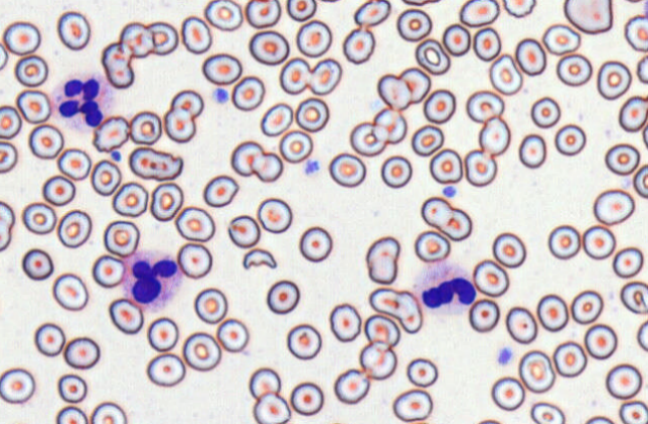GRAN: (50, 67, 119, 137), (120, 248, 184, 315), (415, 264, 476, 314)
PLT: (495, 344, 517, 366), (211, 85, 229, 105), (303, 158, 321, 177), (441, 183, 458, 199), (110, 150, 122, 162)
RBC: (368, 286, 422, 333), (128, 146, 183, 181), (365, 235, 400, 284), (563, 0, 613, 34), (518, 349, 555, 393), (101, 41, 134, 89), (182, 331, 221, 371), (593, 188, 635, 225), (359, 340, 397, 380), (174, 206, 215, 242), (248, 29, 289, 65), (488, 53, 523, 95), (92, 115, 130, 152), (295, 19, 332, 57), (472, 259, 509, 297), (52, 272, 88, 311), (146, 352, 186, 387), (596, 60, 631, 100), (392, 388, 433, 422), (2, 20, 41, 55), (57, 209, 92, 248), (333, 368, 370, 404), (414, 38, 450, 75), (605, 363, 642, 399), (111, 181, 148, 217), (103, 220, 139, 257), (349, 121, 387, 156), (328, 152, 366, 187), (465, 89, 504, 123), (202, 52, 242, 85), (57, 10, 90, 50), (256, 197, 292, 233), (28, 123, 64, 159), (372, 107, 407, 144), (0, 367, 35, 404), (552, 340, 587, 377), (308, 57, 342, 95), (252, 391, 291, 424), (150, 182, 183, 221), (478, 115, 510, 155), (329, 302, 361, 342), (108, 298, 143, 334), (177, 242, 212, 278), (286, 323, 321, 359), (363, 313, 400, 347), (193, 287, 227, 324), (492, 231, 526, 268), (298, 225, 332, 262), (514, 37, 546, 76), (542, 23, 581, 55), (180, 15, 212, 54), (203, 0, 243, 31), (490, 376, 525, 411), (289, 381, 324, 416), (230, 140, 264, 176), (119, 21, 153, 57), (422, 88, 456, 124), (231, 75, 265, 111), (429, 148, 463, 184), (398, 66, 431, 103), (377, 73, 410, 110), (63, 336, 100, 369), (342, 27, 375, 64), (202, 174, 239, 207), (505, 306, 537, 344), (536, 293, 568, 331), (278, 129, 313, 163), (295, 97, 329, 132), (16, 89, 51, 123), (266, 279, 300, 314), (582, 224, 616, 259), (163, 107, 196, 143), (414, 229, 450, 262), (556, 53, 592, 86), (584, 323, 617, 359), (396, 8, 432, 41), (279, 56, 310, 94), (91, 254, 125, 288), (129, 110, 162, 145), (216, 317, 249, 352), (21, 201, 56, 234), (547, 224, 580, 259), (570, 289, 603, 324), (604, 143, 640, 175), (90, 159, 121, 196), (439, 207, 472, 241), (260, 102, 293, 136), (227, 214, 260, 248), (57, 147, 91, 180), (14, 54, 48, 87), (147, 316, 178, 352), (618, 95, 648, 132), (146, 21, 178, 55), (459, 0, 499, 27), (411, 124, 444, 156), (248, 367, 281, 399), (42, 174, 75, 206), (380, 155, 412, 188), (34, 322, 65, 356), (468, 298, 499, 332), (244, 0, 281, 28), (420, 196, 452, 228), (21, 248, 53, 280), (554, 123, 586, 155), (472, 26, 501, 61), (353, 0, 390, 27), (251, 151, 283, 182), (612, 246, 643, 278), (170, 89, 203, 119), (518, 133, 546, 168), (406, 357, 438, 387), (530, 96, 560, 128), (442, 23, 471, 56), (620, 280, 648, 314), (57, 373, 87, 403), (624, 14, 648, 51), (90, 401, 127, 424), (530, 401, 565, 424), (0, 104, 22, 139), (618, 400, 648, 424), (286, 0, 316, 21), (55, 405, 88, 424), (502, 0, 536, 18), (0, 140, 17, 173), (633, 163, 648, 198), (0, 200, 15, 229), (636, 319, 648, 352), (0, 216, 11, 251), (636, 53, 648, 84), (582, 415, 616, 424), (400, 0, 441, 6), (0, 41, 8, 71), (474, 418, 504, 424), (642, 120, 648, 150), (401, 420, 434, 424), (321, 421, 353, 424), (643, 0, 648, 18), (316, 0, 344, 3), (622, 0, 645, 3)
Schistocyte: (465, 150, 499, 187), (241, 248, 278, 271)
